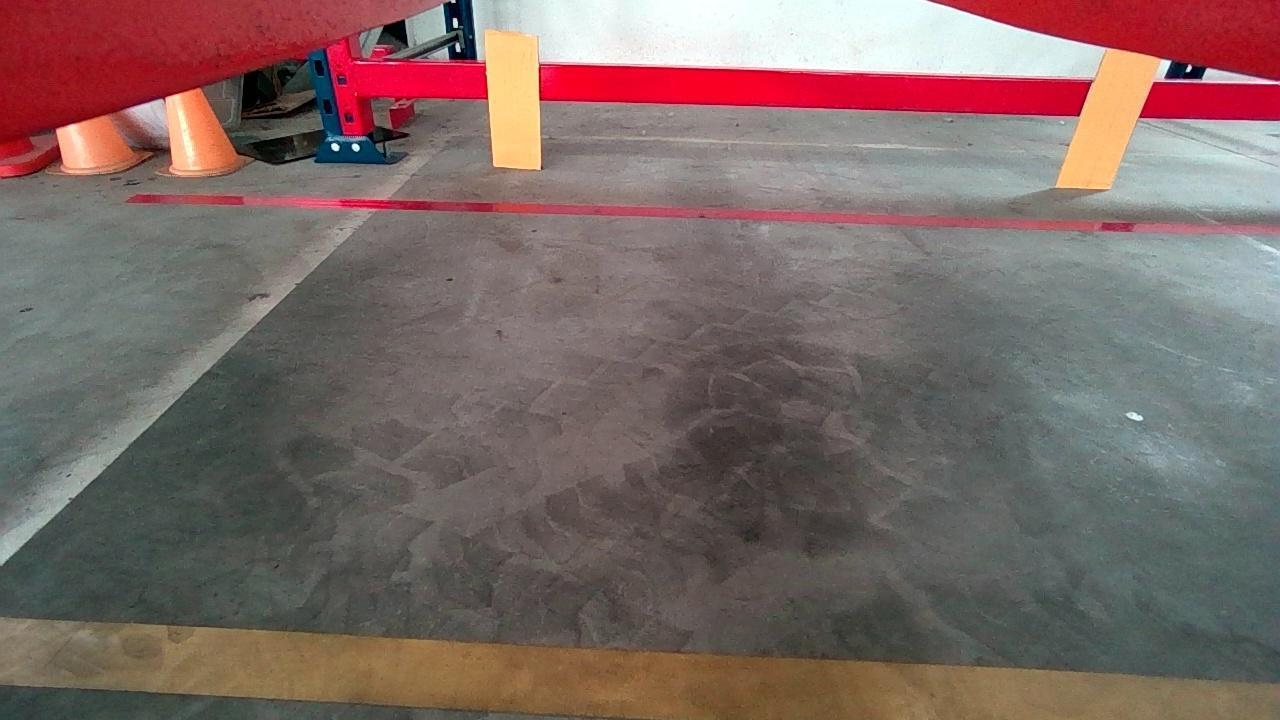h_rack: (351, 59, 1279, 116)
orange_strip: (1057, 46, 1160, 187), (483, 31, 537, 168)
red_line: (121, 188, 1278, 233)
